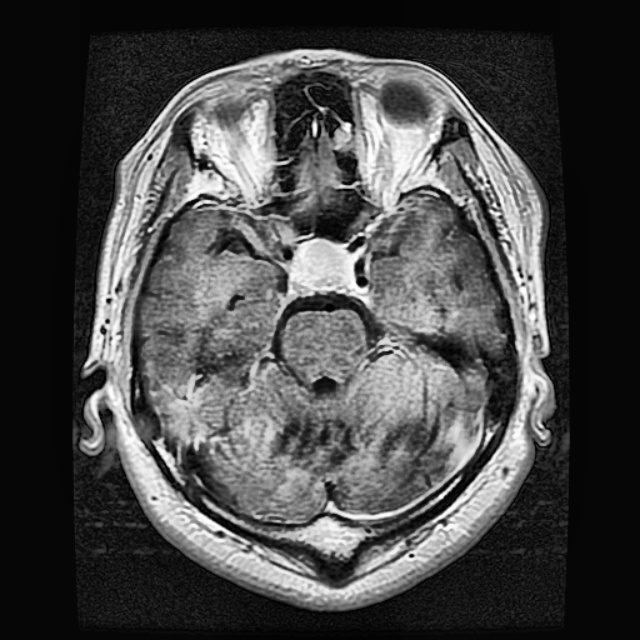Pituitary: (289, 237, 355, 292)
